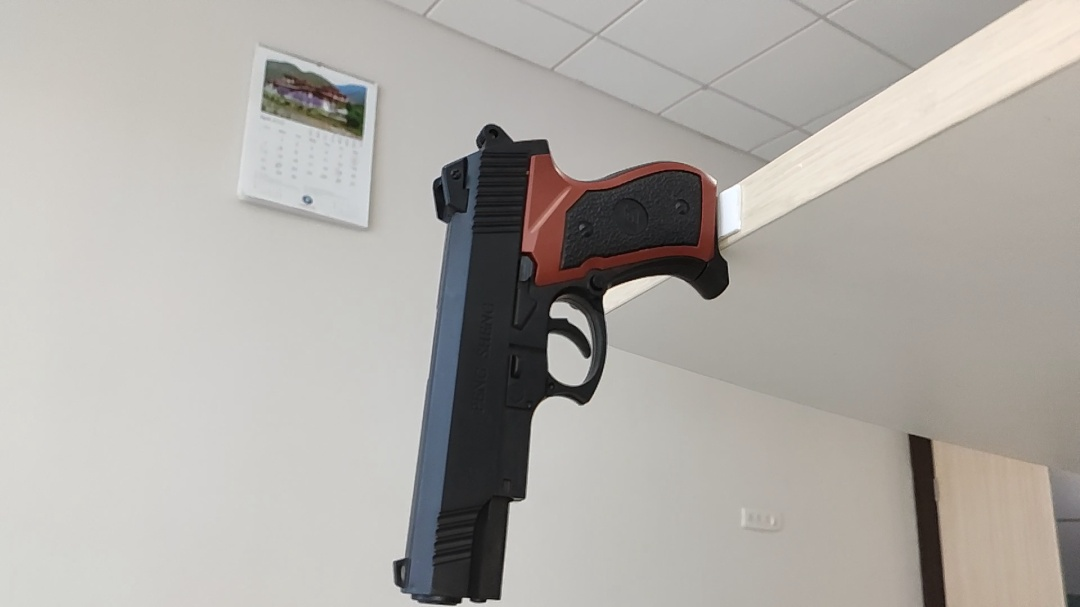gun: (388, 120, 733, 607)
